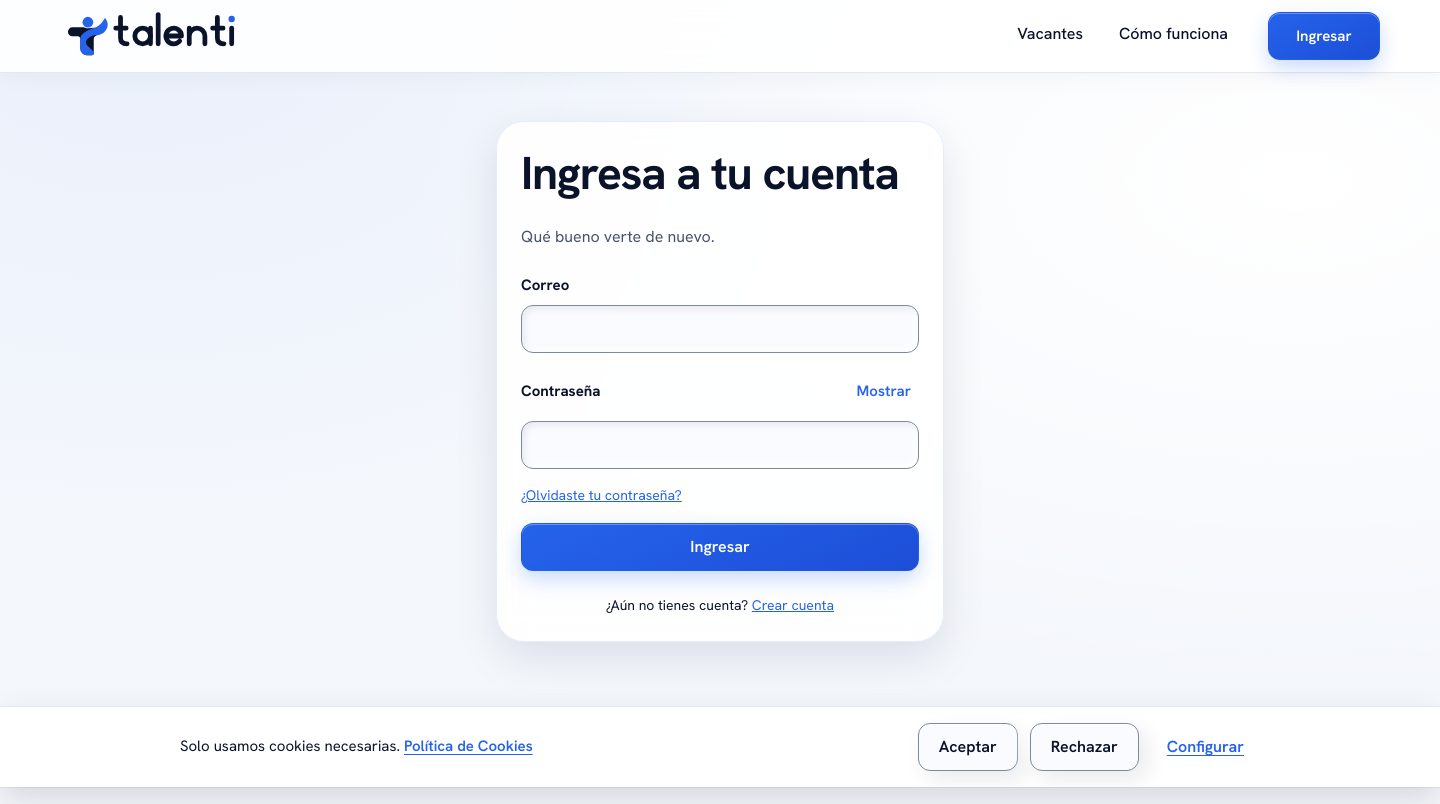
Test case: Sign-in form (001-22, 001-23) › 001-23: "¿Olvidaste tu contraseña?" leads to an information page that recovers nothing
The width and height of the screenshot is (1440, 804).
Expected: the heading "Ingresa a tu cuenta" is shown, left=521, top=146, right=919, bottom=201
Click the link "¿Olvidaste tu contraseña?" at (601, 495), box left=521, top=486, right=682, bottom=504
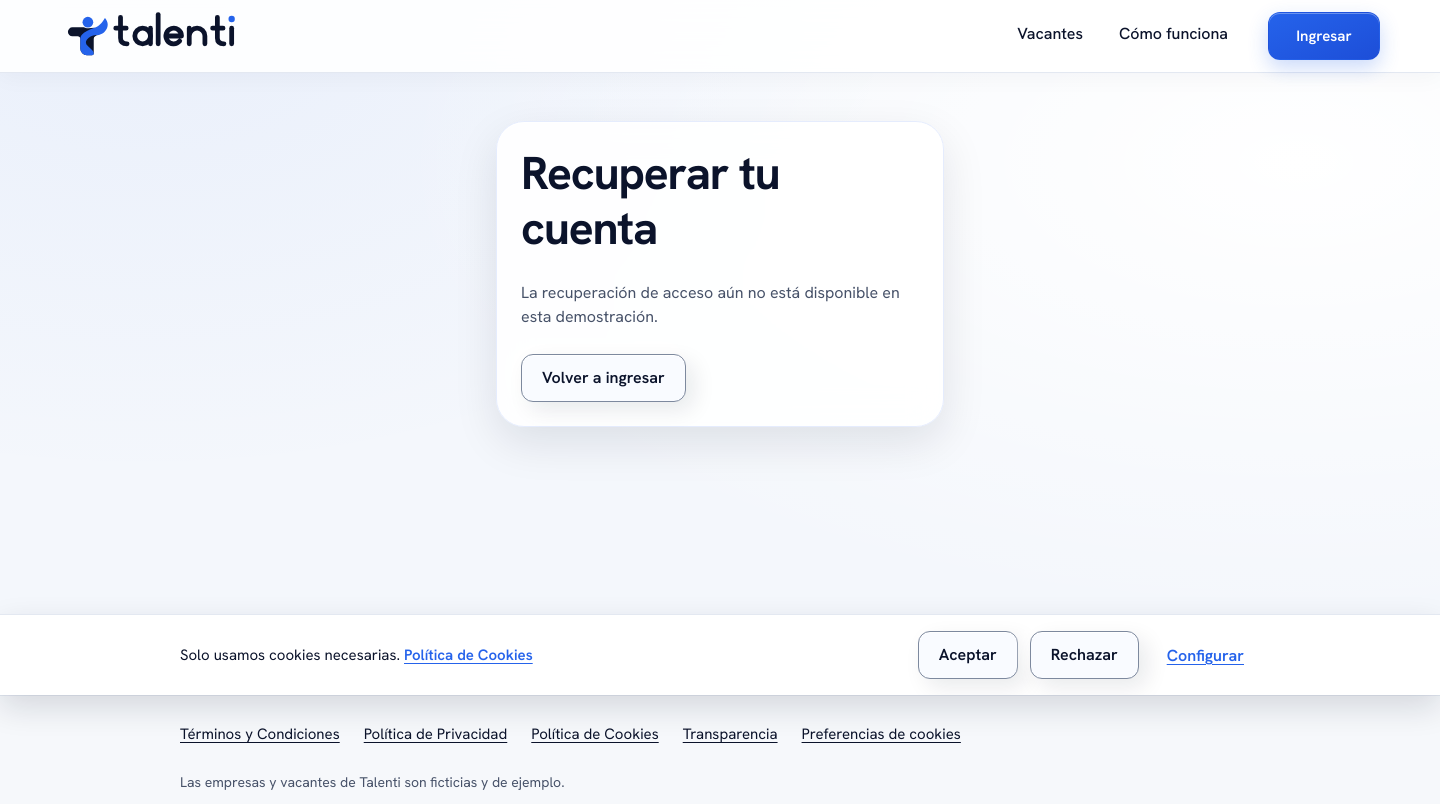
Expected: the heading "Recuperar tu cuenta" is shown, left=521, top=143, right=780, bottom=258
Expected: the text "La recuperación de acceso aún no está disponible en esta demostración." is shown, left=521, top=281, right=919, bottom=330
Expected: the label labelled "Correo" is gone
